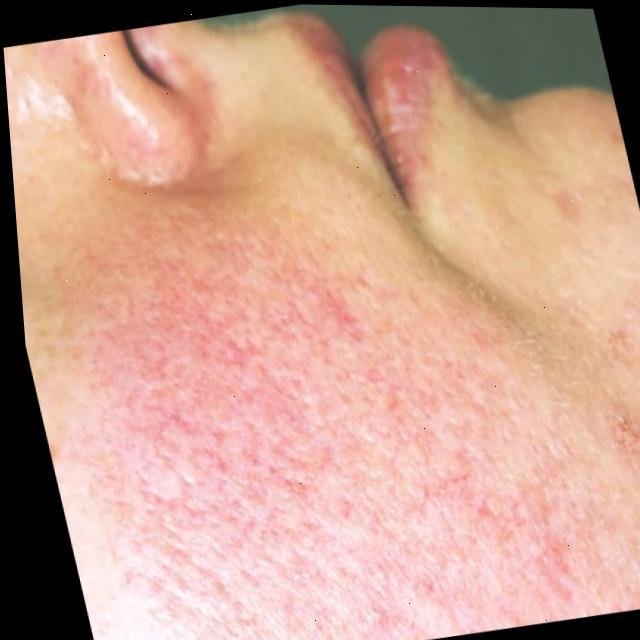Rosacea: (30, 196, 640, 640)
